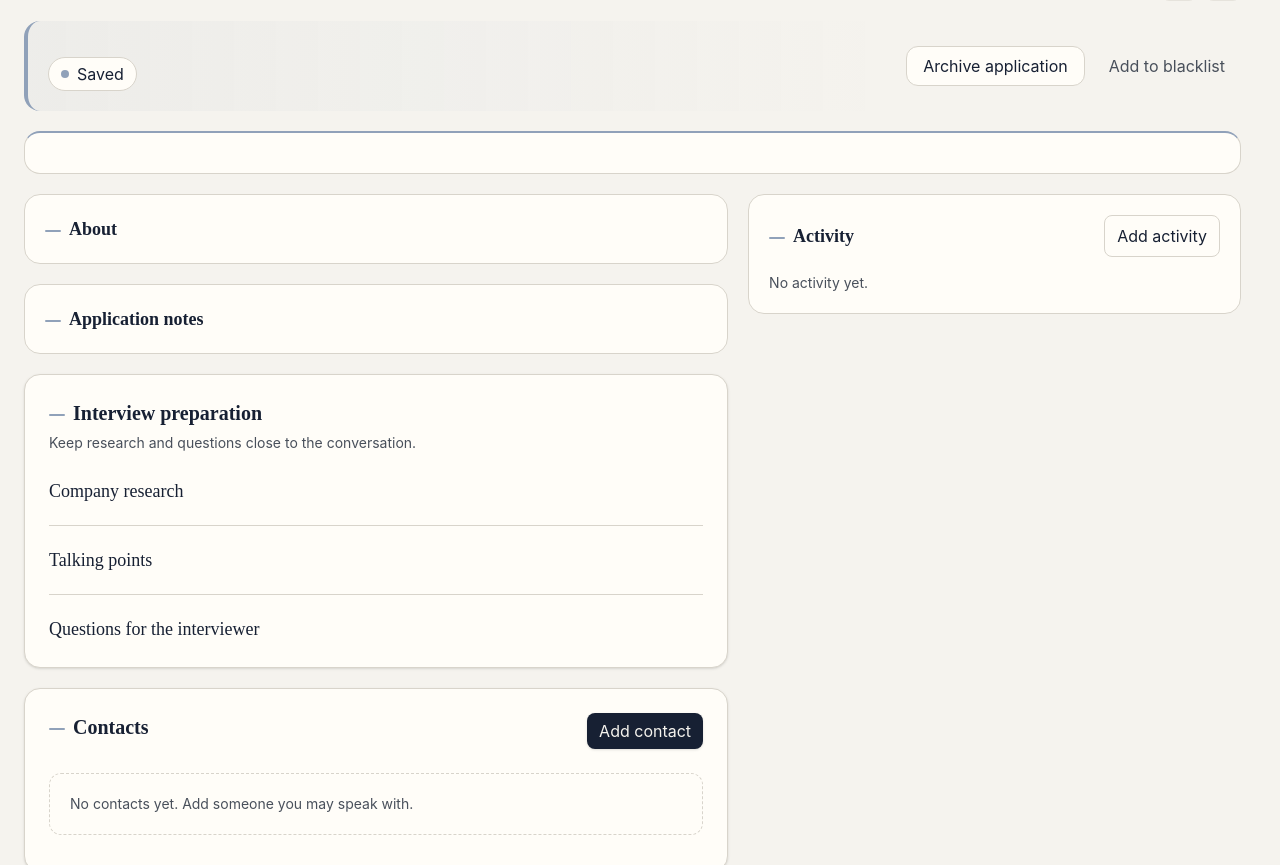
Test: keeps Add activity drafts read-only and cancellable after disconnection
The width and height of the screenshot is (1280, 865).
Click the button "Add activity": (1162, 236) 1104,215 -> 1220,257
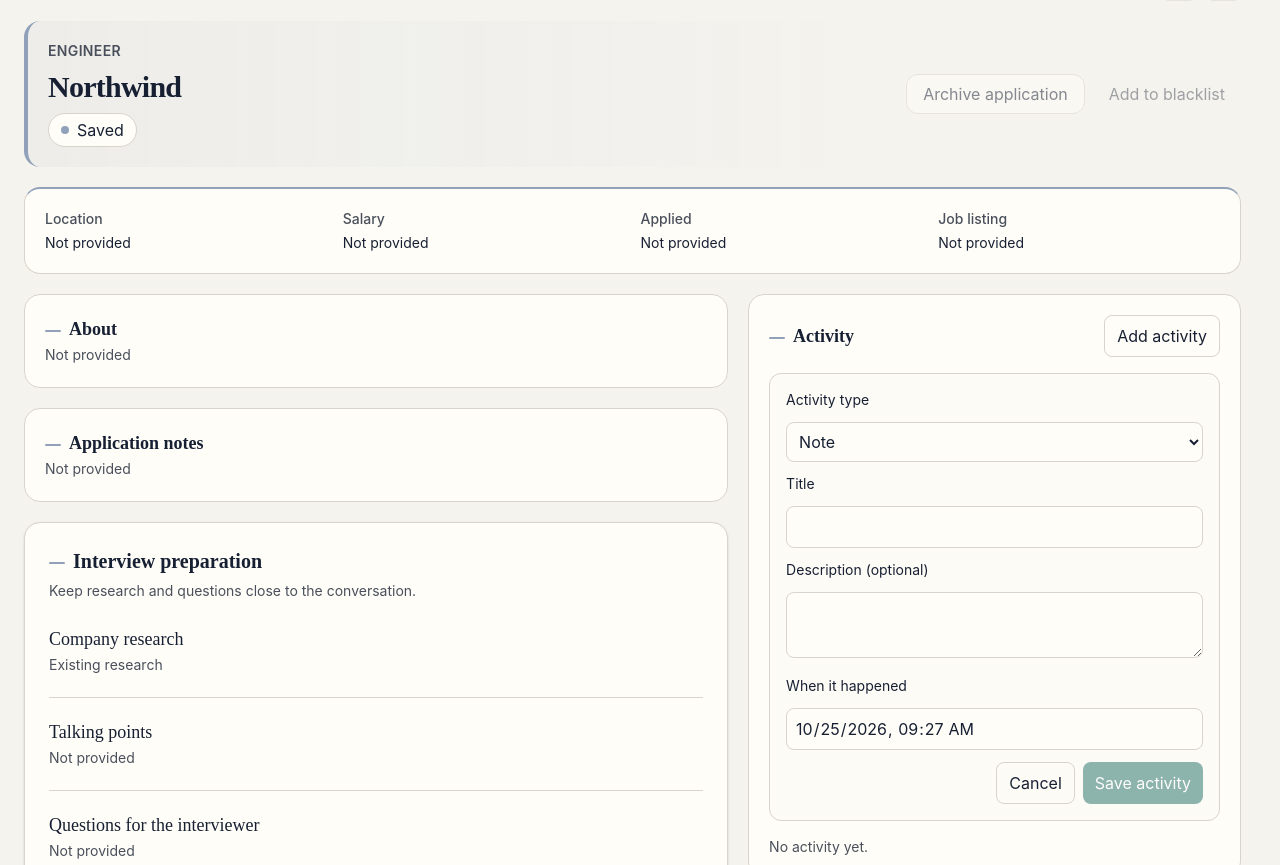
expect the button "Save activity" is disabled: met, box 1083,762 -> 1203,804
expect the button "Cancel" is enabled: met
Click the button "Cancel": (1036, 783) 996,762 -> 1075,804
(page scrolled)
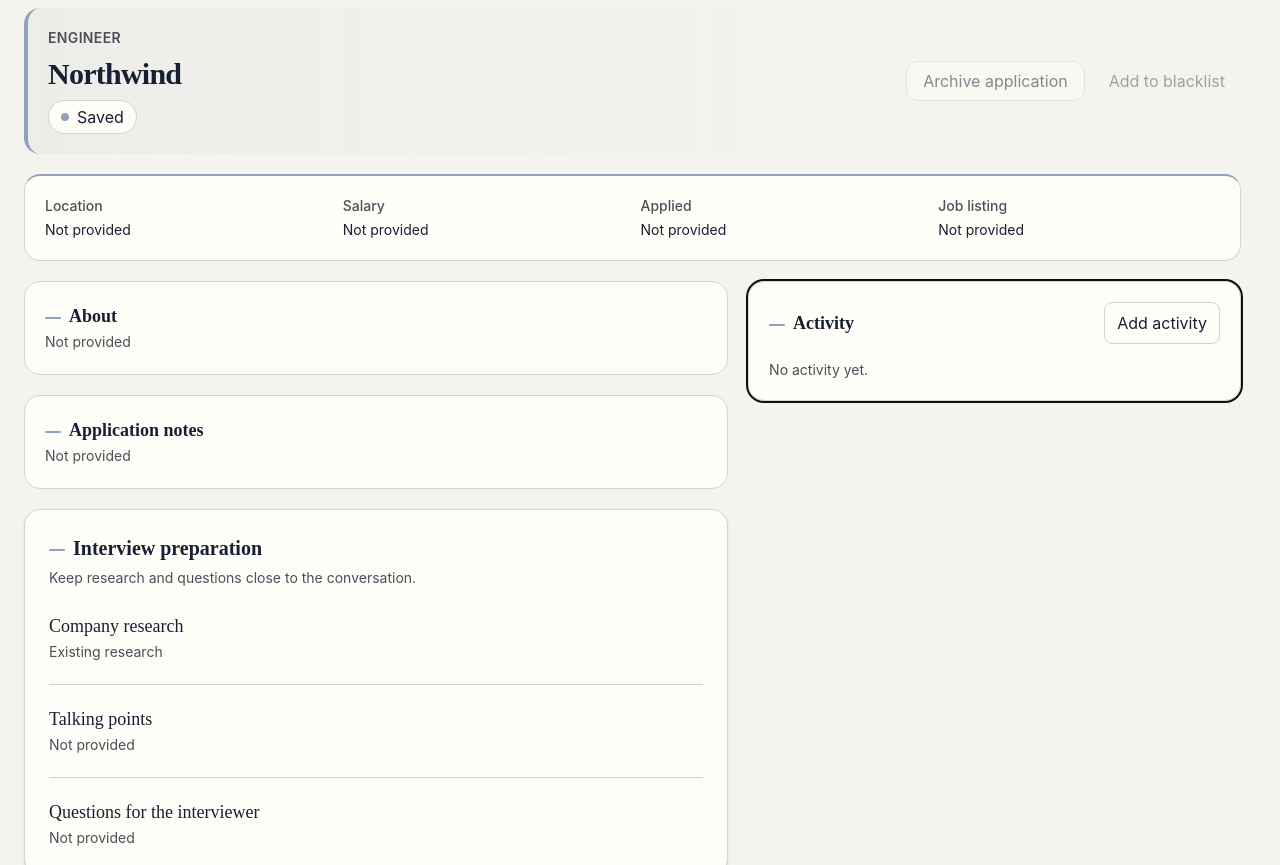
expect the label "Title" is gone: met
